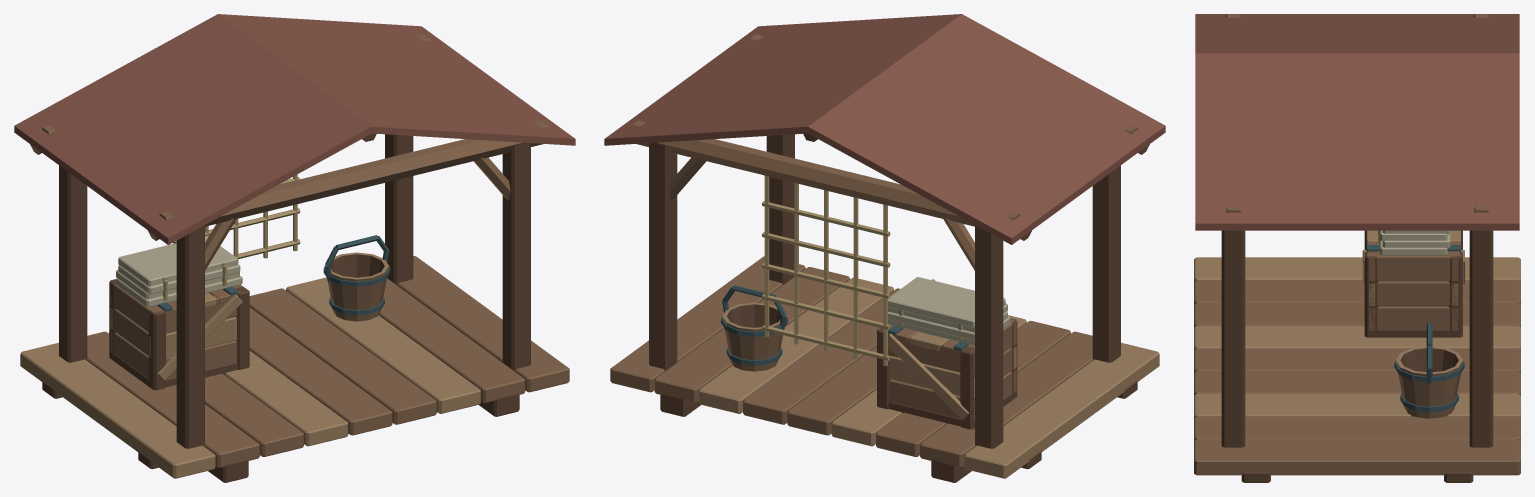
File: net-shed.glb
The picture shows the model from 3 angles, left to right: view 1: azimuth 30°, elevation 25°; view 2: azimuth 150°, elevation 25°; view 3: azimuth 270°, elevation 25°; orthographic projection. The views are drawn at different scales.
Visible parts, largest first — view 1: net-shed__body; view 2: net-shed__body; view 3: net-shed__body.
Boxes of the visible parts, box(x1,y1,x2,y2) form: net-shed__body: box(14, 14, 575, 482); net-shed__body: box(604, 14, 1165, 482); net-shed__body: box(1194, 14, 1520, 482).
Size of the model in its own units: 2.2 by 1.65 by 1.45.
